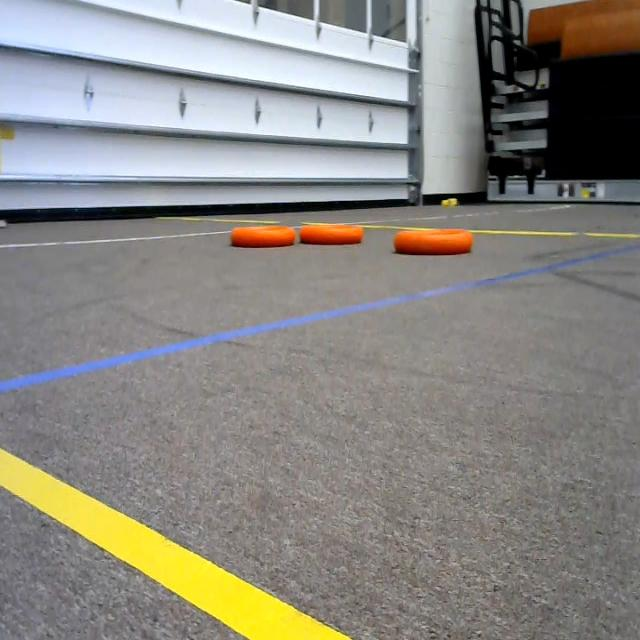note: (390, 224, 477, 260), (297, 214, 373, 251), (228, 218, 302, 255)
